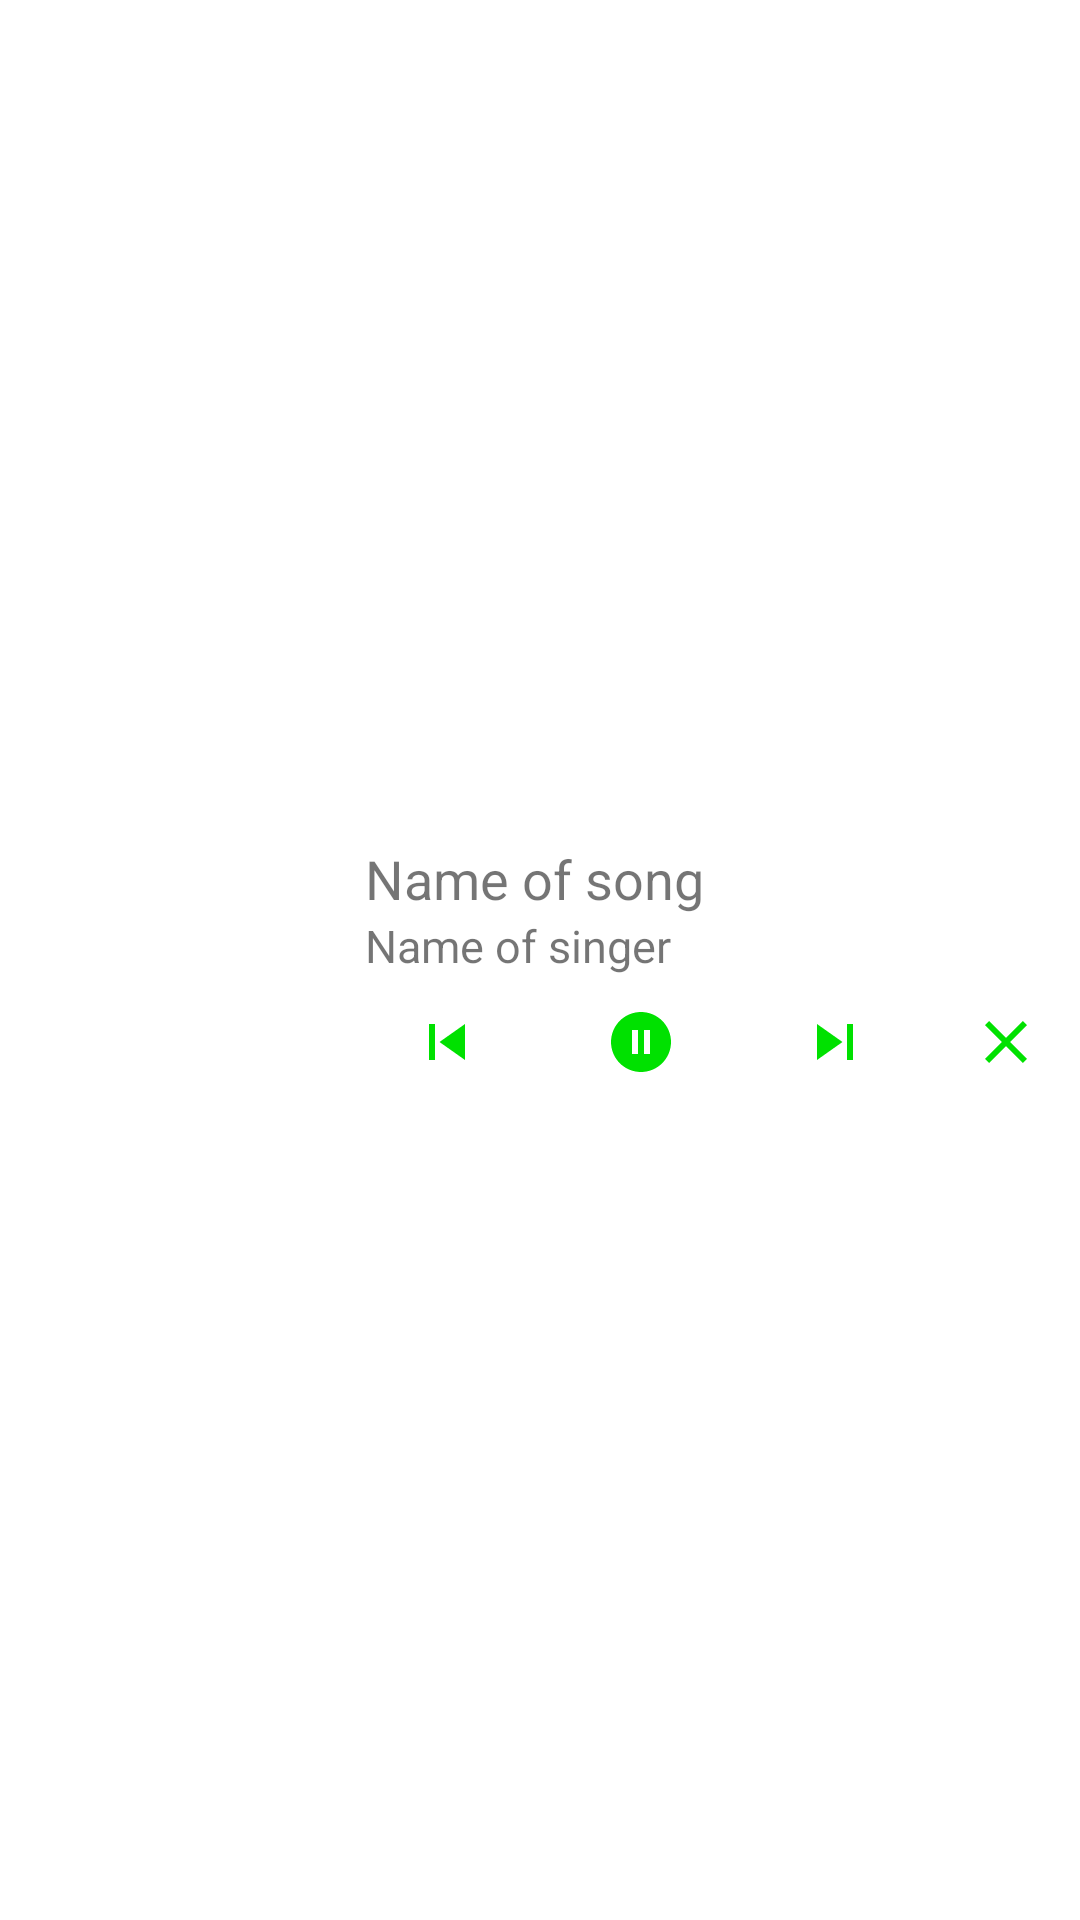

Icon click points for this 1080 x 1920 phone screenshot, format (x,y):
clear: (1006,1042)
pause circle: (641,1042)
skip next: (835,1042)
skip previous: (447,1042)
